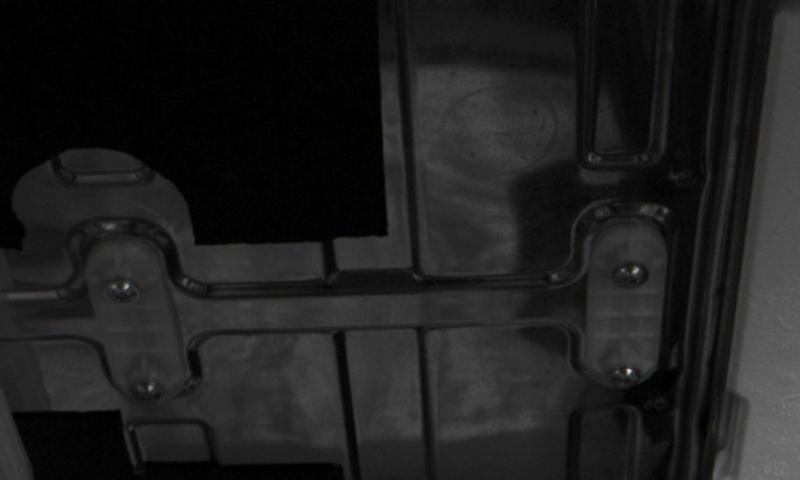vida-ok: (608, 251, 651, 296), (101, 267, 141, 312), (126, 372, 168, 412), (608, 357, 648, 395)
